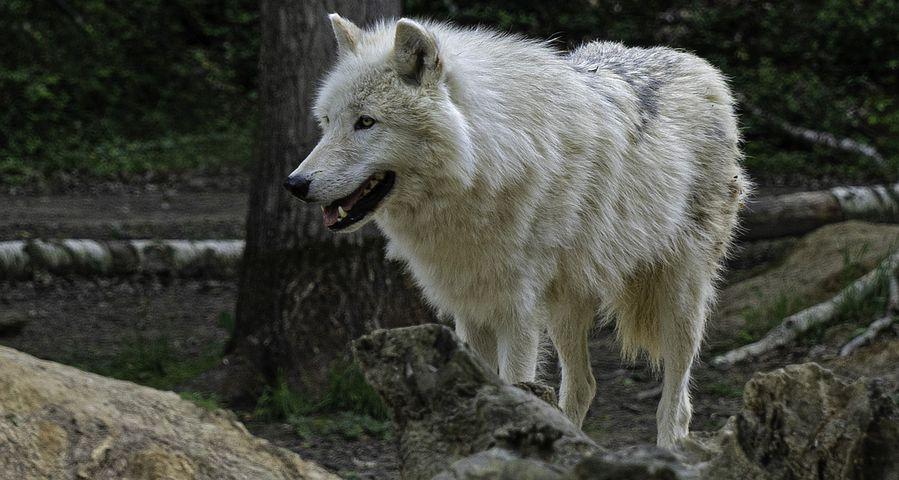fox: (282, 8, 751, 463)
